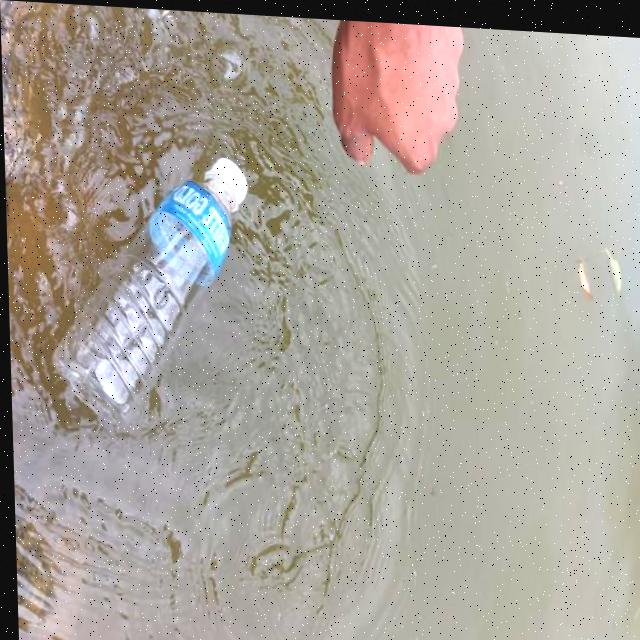waterbottle: (28, 145, 263, 404)
